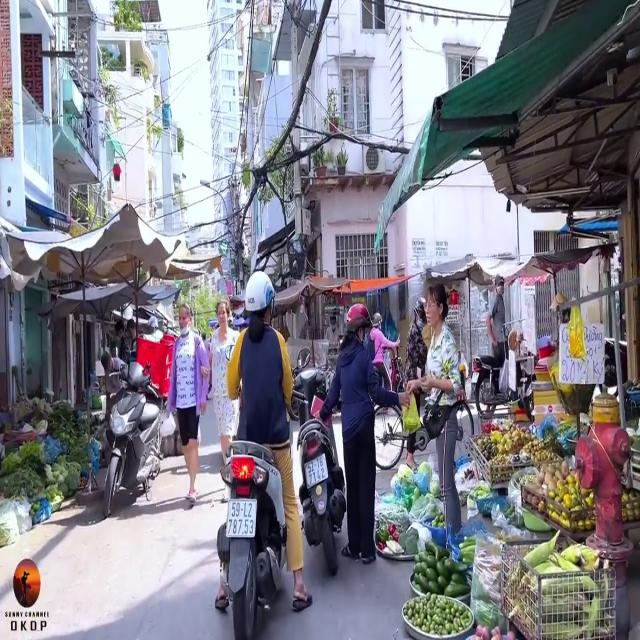bien_trang: (225, 497, 258, 537), (300, 454, 330, 487)
